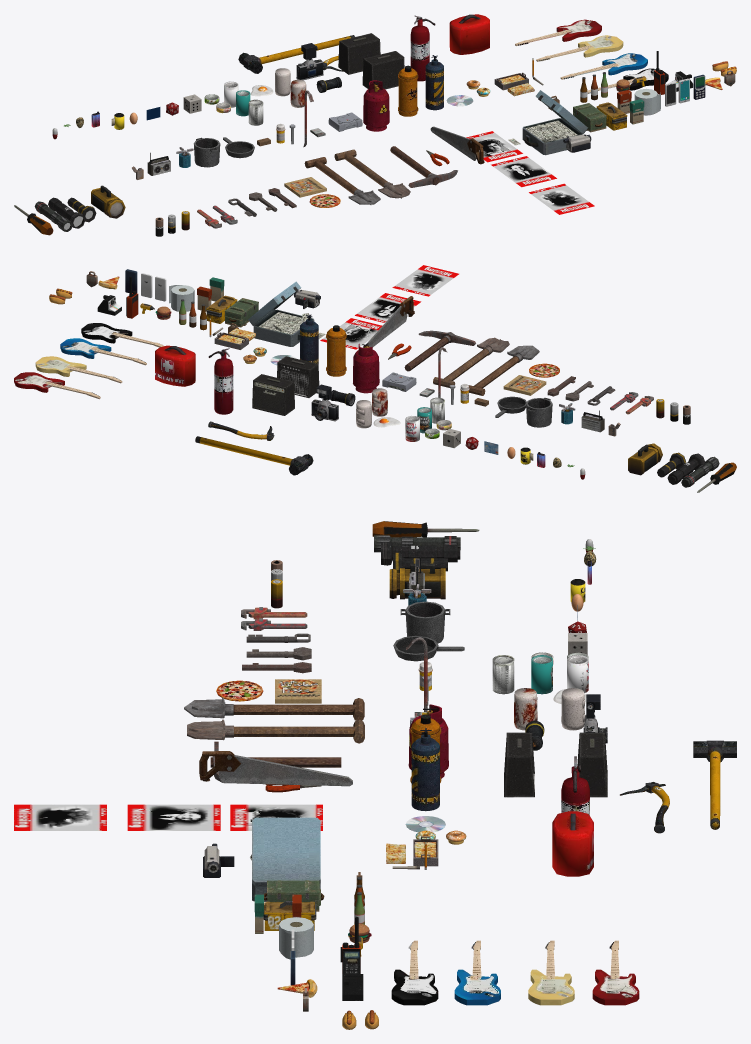
File: MISC_2025-transformed.glb
The picture shows the model from 3 angles, top to bottom: view 1: azimuth 30°, elevation 25°; view 2: azimuth 150°, elevation 25°; view 3: azimuth 270°, elevation 25°; orthographic projection. The views are drawn at different scales.
Visible parts, largest first — view 1: Money_Case, Medkit, Amplifier_Variant_1, Amplifier_Variant_2, Gas_V3, Poster_Missing_Variant_3, Poster_Missing_Variant_2, Extinguisher, Gas_V2, Gas_V1, Sledgehammer, Shovel_2 (+25 smaller); view 2: Money_Case, Medkit, Amplifier_Variant_1, Amplifier_Variant_2, Extinguisher, Poster_Missing_Variant_3, Gas_V3, Sledgehammer, Gas_V2, Shovel_2, Guitar_Variant_3, Shovel_1 (+25 smaller); view 3: Money_Case, Saw, Medkit, Poster_Missing_Variant_2, Poster_Missing_Variant_3, Shovel_2, Shovel_1, Gas_V1, Amplifier_Variant_2, Amplifier_Variant_1, Guitar_Variant_3, Guitar_Variant_1 (+21 smaller).
Part boxes in pixels (x1,y1,x2,y2): Money_Case: [522, 90, 587, 155]; Medkit: [449, 14, 489, 54]; Amplifier_Variant_1: [338, 33, 380, 74]; Amplifier_Variant_2: [362, 51, 404, 89]; Gas_V3: [363, 80, 389, 131]; Poster_Missing_Variant_3: [529, 183, 594, 214]; Poster_Missing_Variant_2: [491, 156, 556, 187]; Extinguisher: [410, 15, 435, 81]; Gas_V2: [398, 65, 418, 116]; Gas_V1: [425, 55, 443, 110]; Sledgehammer: [238, 35, 354, 73]; Shovel_2: [334, 149, 410, 198]; Money_Case: [248, 281, 314, 346]; Medkit: [155, 345, 195, 386]; Amplifier_Variant_1: [252, 374, 294, 415]; Amplifier_Variant_2: [277, 356, 319, 397]; Extinguisher: [208, 348, 233, 414]; Poster_Missing_Variant_3: [392, 265, 458, 296]; Gas_V3: [353, 343, 379, 393]; Sledgehammer: [195, 436, 313, 475]; Gas_V2: [326, 325, 346, 376]; Shovel_2: [433, 337, 509, 387]; Guitar_Variant_3: [35, 356, 122, 383]; Shovel_1: [468, 345, 539, 395]; Money_Case: [250, 817, 320, 901]; Saw: [199, 751, 352, 786]; Medkit: [552, 811, 593, 876]; Poster_Missing_Variant_2: [127, 804, 220, 830]; Poster_Missing_Variant_3: [14, 804, 106, 830]; Shovel_2: [187, 719, 364, 743]; Shovel_1: [184, 697, 364, 720]; Gas_V1: [411, 728, 439, 811]; Amplifier_Variant_2: [504, 732, 534, 797]; Amplifier_Variant_1: [577, 732, 607, 797]; Guitar_Variant_3: [528, 940, 574, 1005]; Guitar_Variant_1: [391, 940, 438, 1005].
Bounding box in the file's own units: 38.17 × 3.91 × 23.17.
Materials: 97 (97 with a texture image).
